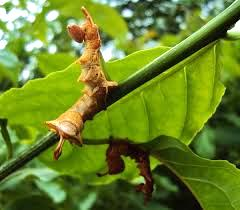Caterpillar: (49, 7, 111, 148), (102, 135, 153, 202)
